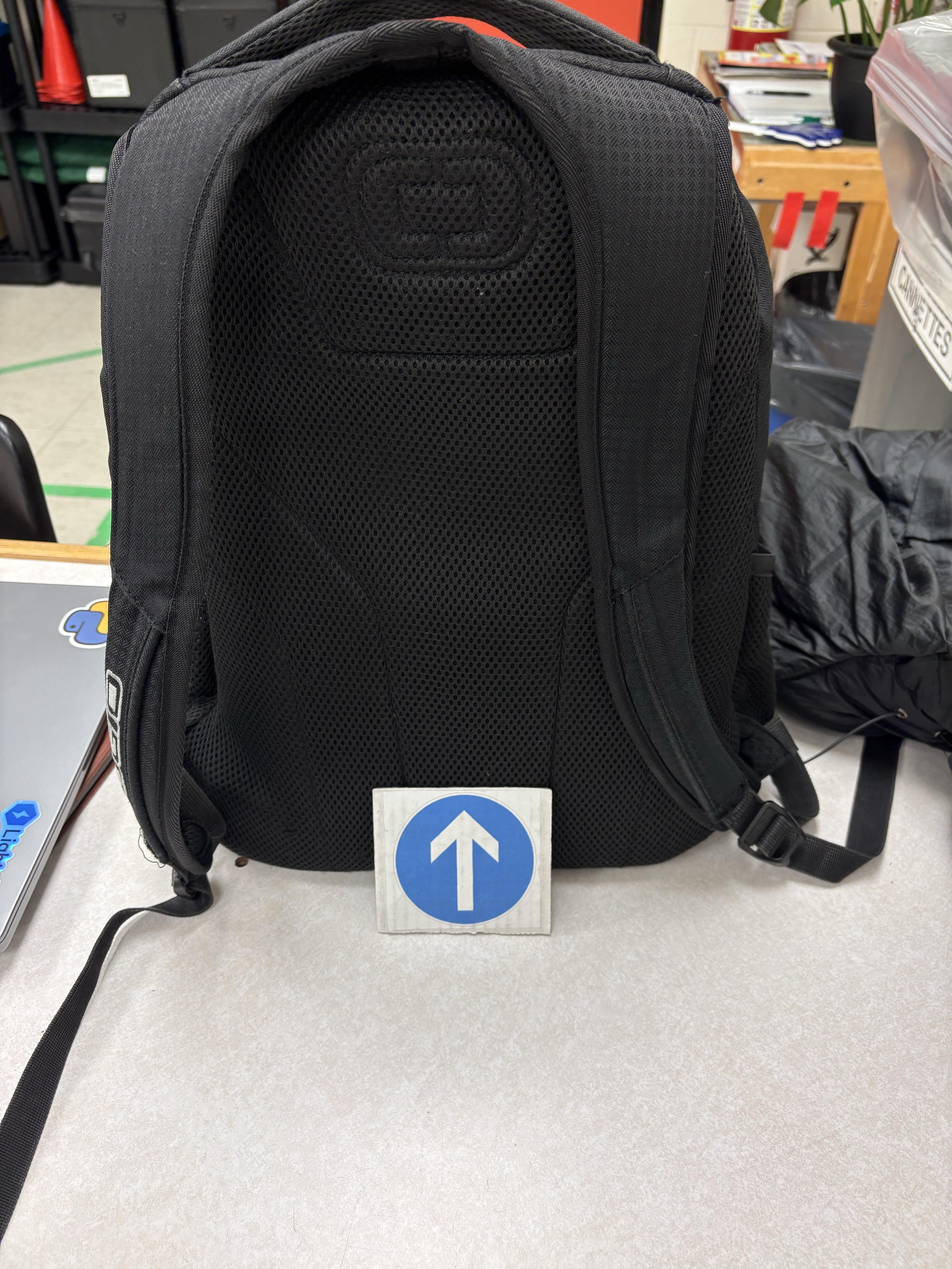Proceed Forward: (278, 1052, 417, 1242)
